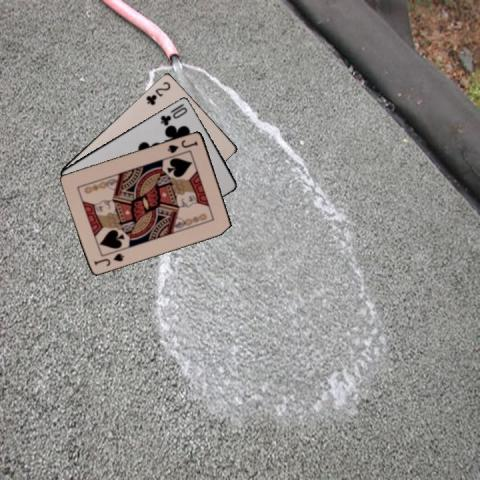10c: (157, 100, 189, 126)
2c: (143, 78, 172, 107)
Js: (165, 137, 199, 154), (91, 250, 125, 267)
